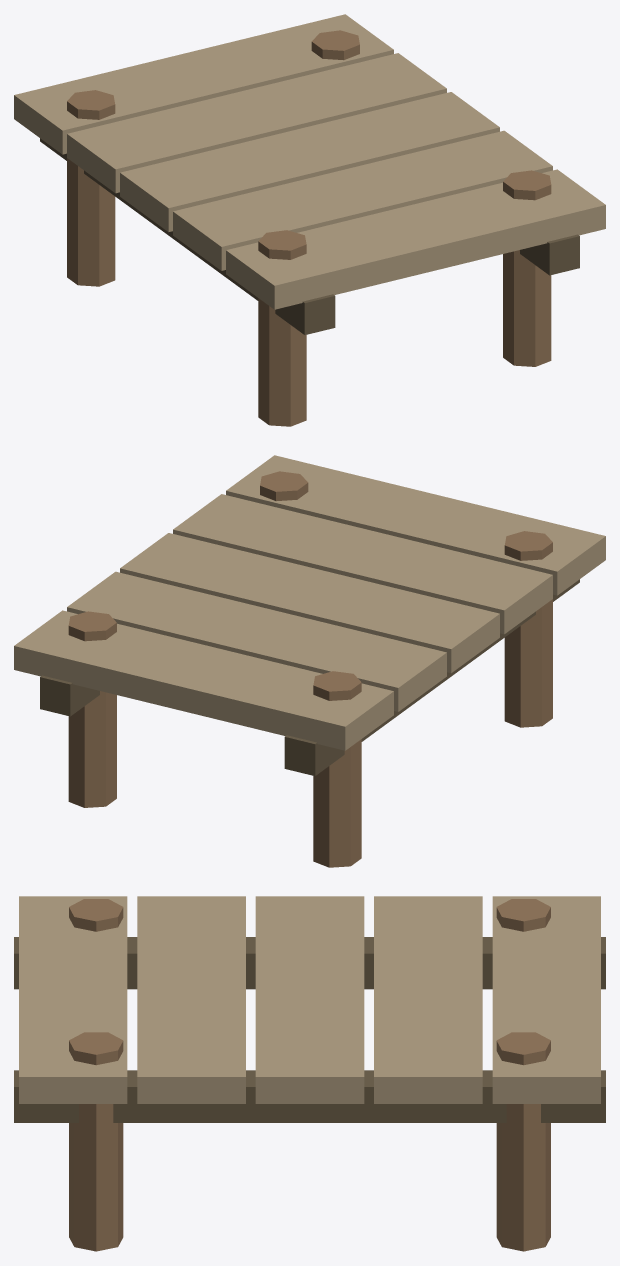
File: qc_dock_section.obj
3 views of the same model, one above another, from view 1: azimuth 30°, elevation 25°; view 2: azimuth 150°, elevation 25°; view 3: azimuth 270°, elevation 25° (orthographic). The views are drawn at different scales.
Parts seen in each view (by area): view 1: qc_dock_section; view 2: qc_dock_section; view 3: qc_dock_section.
Part boxes in pixels (x1=…): qc_dock_section: x1=14, y1=14, x2=605, y2=426; qc_dock_section: x1=14, y1=455, x2=605, y2=867; qc_dock_section: x1=14, y1=896, x2=605, y2=1251.
Bounding box in the file's own units: 1.3 × 0.66 × 1.8.
